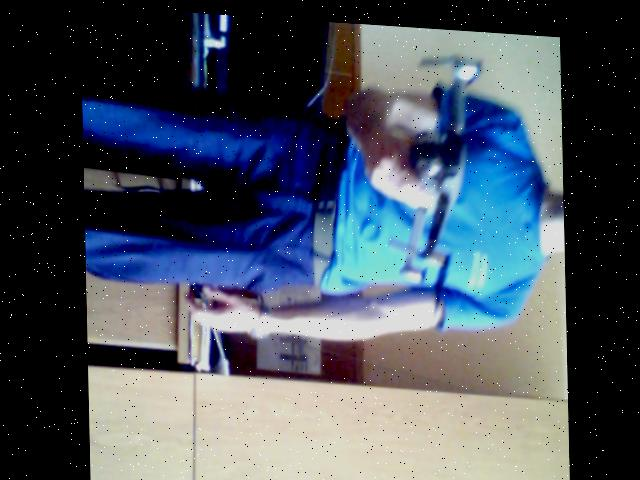drone: (374, 24, 498, 320)
